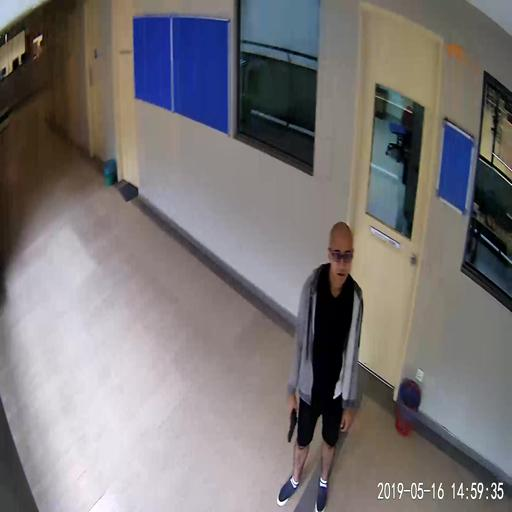pistol: (287, 403, 297, 441)
